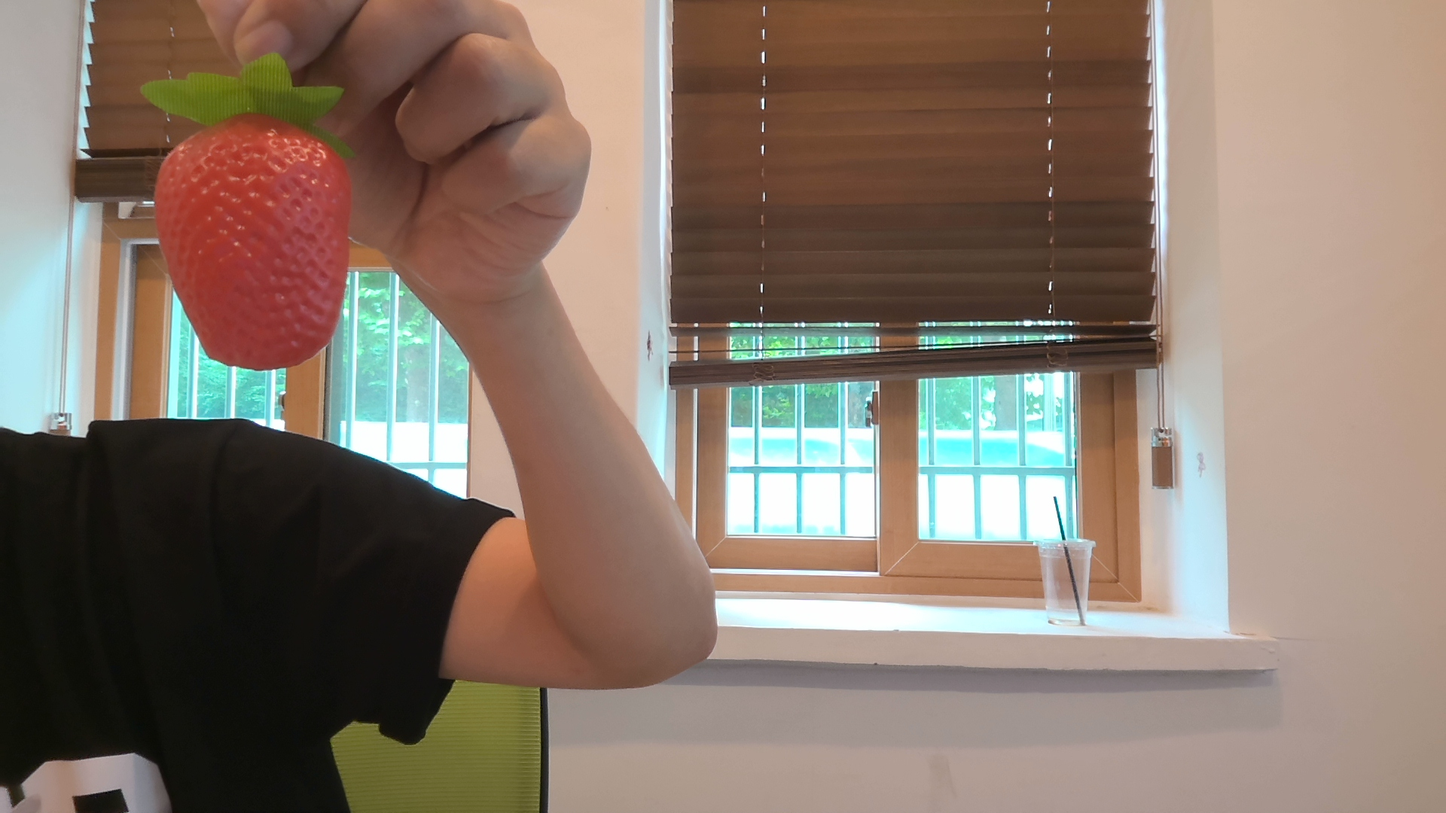strawberry: (131, 93, 362, 371)
